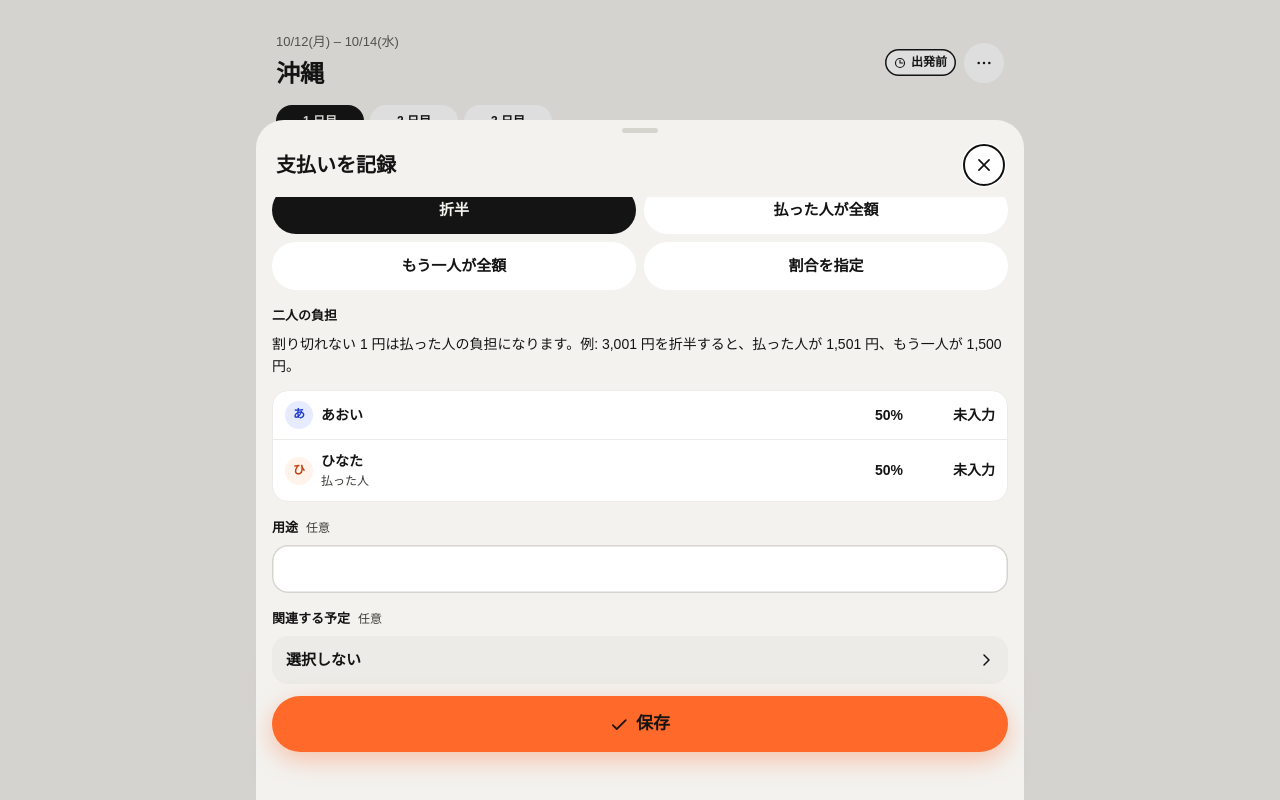
it: PaymentFormScreen（v3 11・11b） › 関連する予定は選び直しシートで選べる（しおりの表示日と違う日も）
This screenshot has width=1280, height=800.
(page scrolled)
Click the button "選択しない" at x=324, y=659, box [272,636,1008,684]
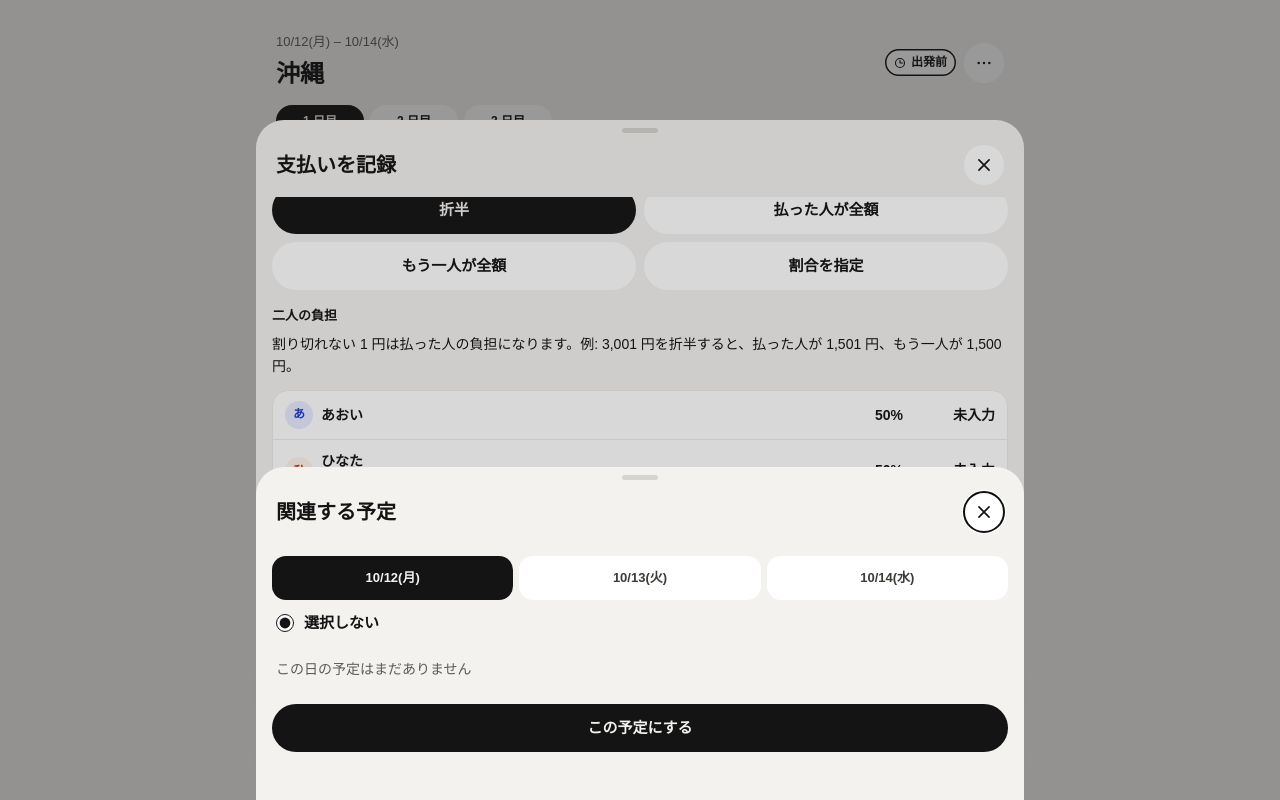
日を10/13に変えるとその日の予定が並ぶ。
Click the radio button labelled "10/13(火)" at x=640, y=578, box [519,556,761,600]
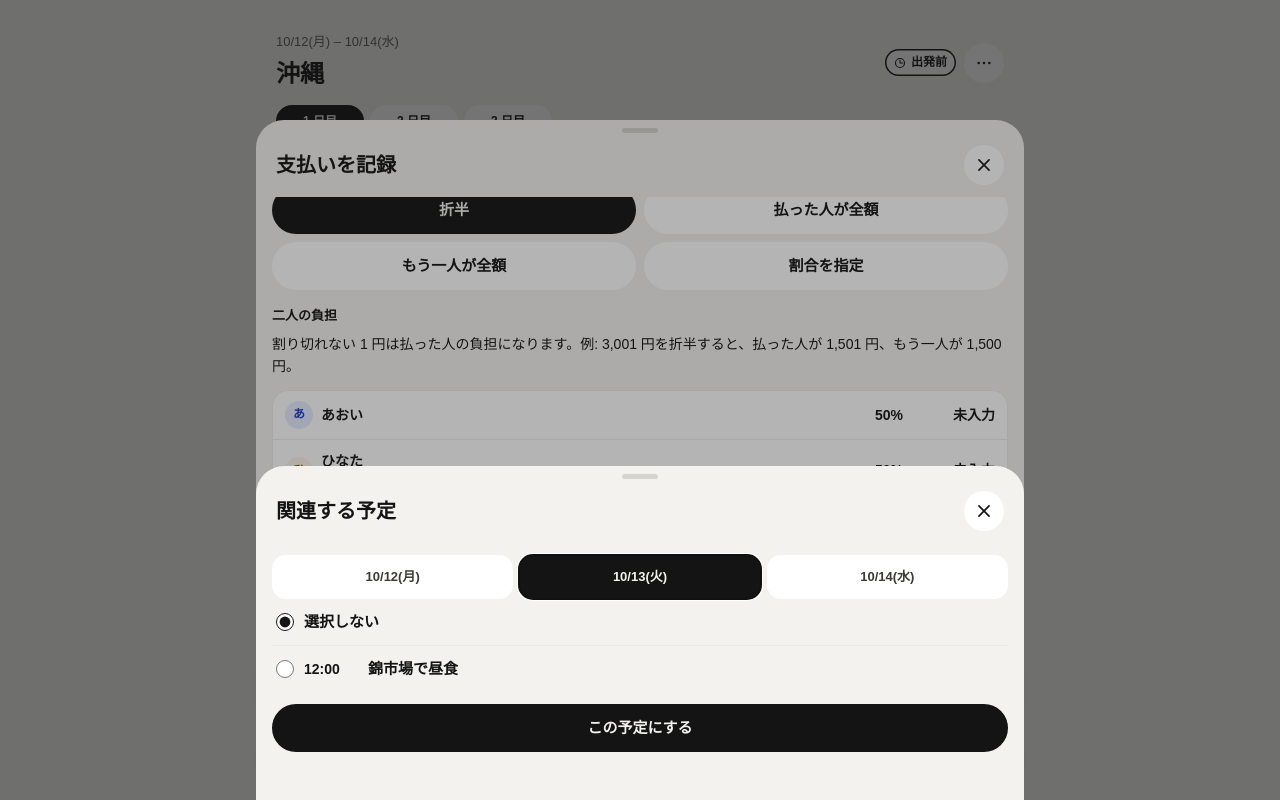
Click the radio button labelled "12:00 錦市場で昼食" at x=285, y=669, box [276,660,294,678]
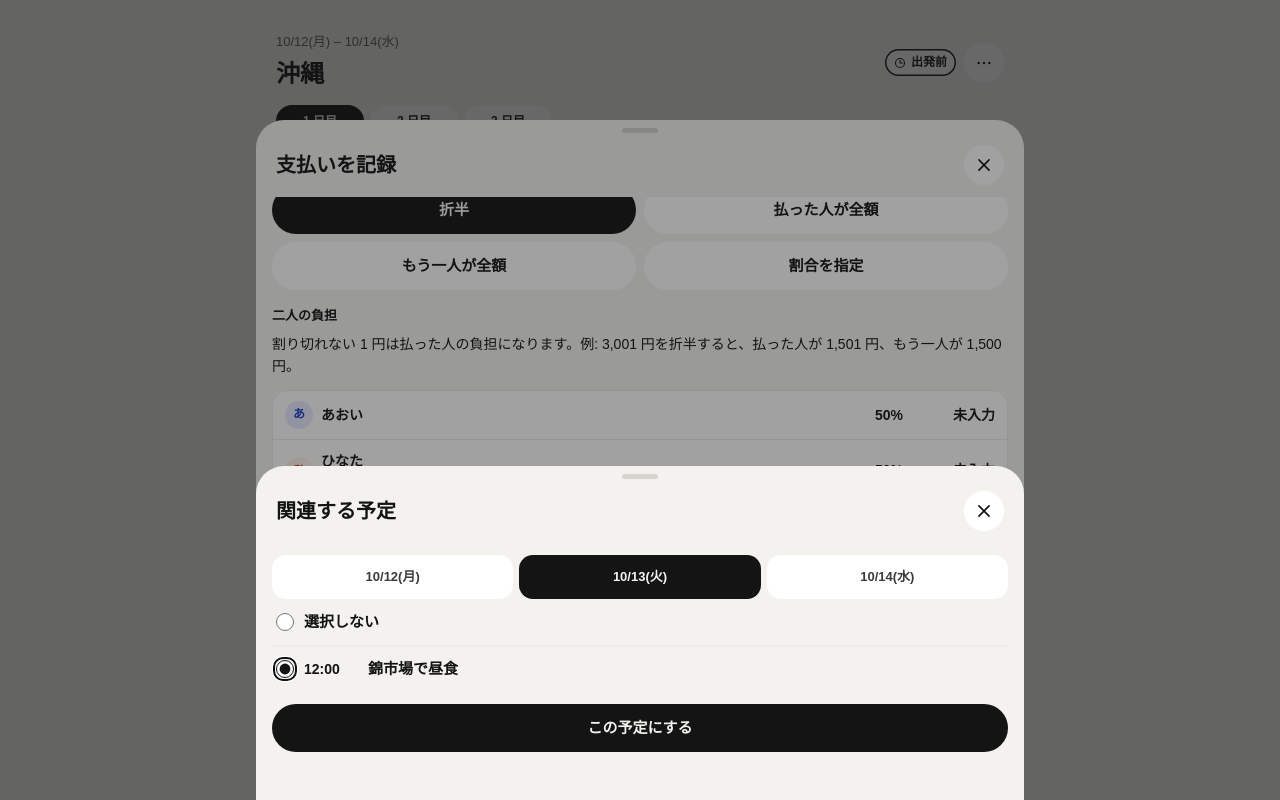
Click the button "この予定にする" at x=640, y=728, box [272,704,1008,752]
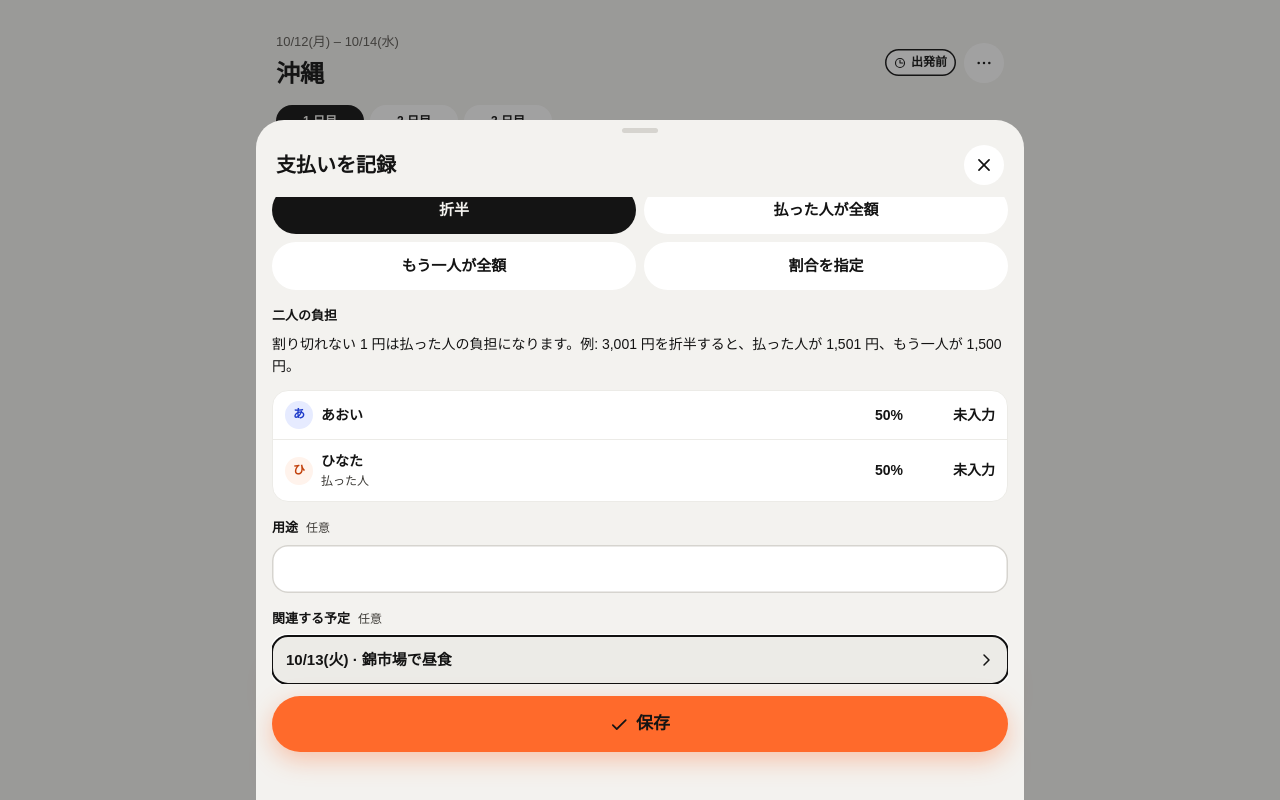
Expected: the text "10/13(火) · 錦市場で昼食" is shown, [286,648,452,672]
